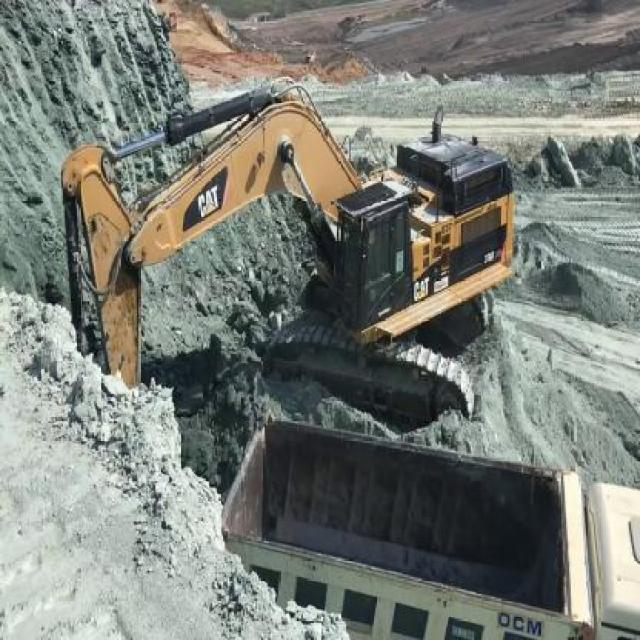dump_truck: (218, 412, 639, 637)
excavator: (58, 71, 516, 424)
